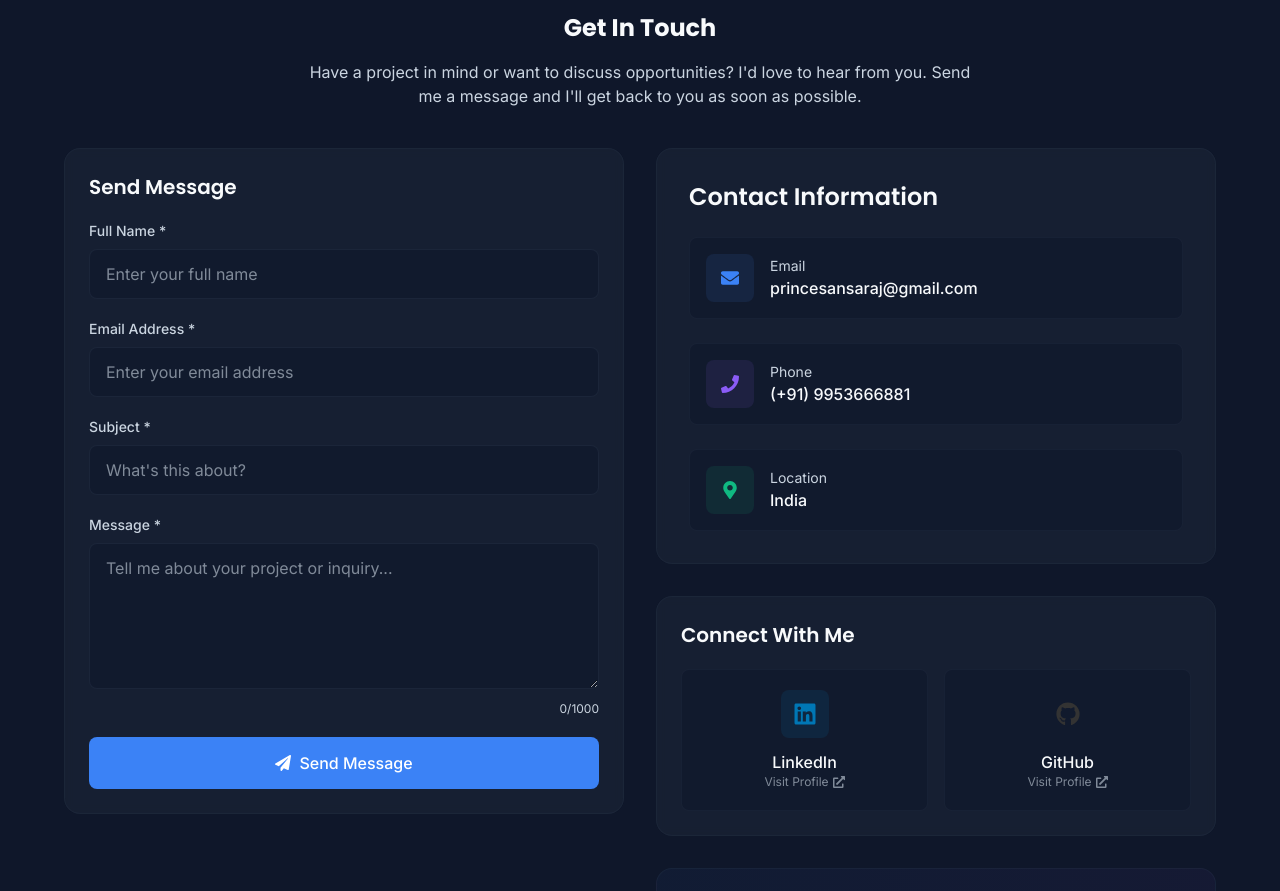
Test: Contact Component › submits form successfully
// Fill out the form
Type "John Doe" into the field labelled "Full Name *" at (344, 274), box x1=89 y1=249 x2=599 y2=299
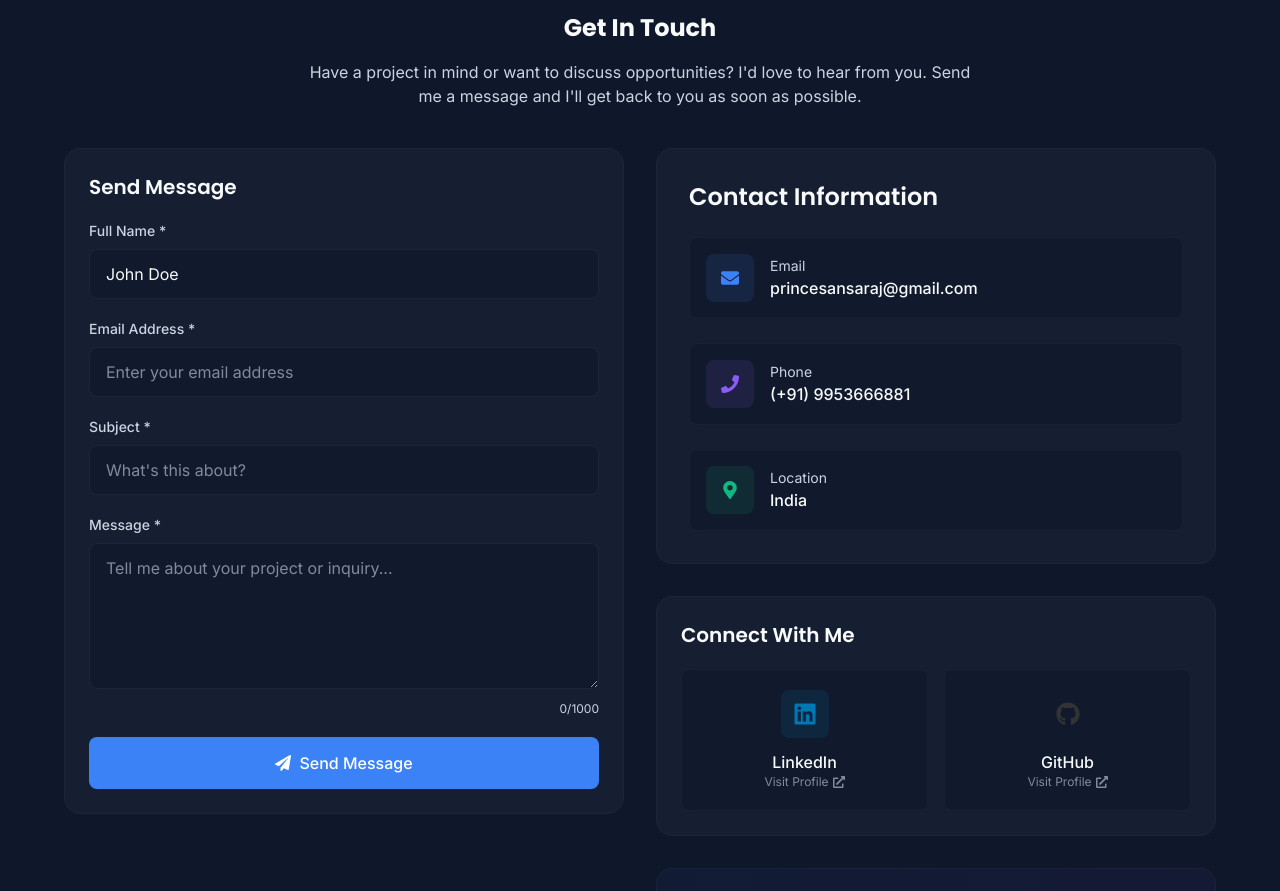
Type "john@example.com" into the field labelled "Email Address *" at (344, 372), box x1=89 y1=347 x2=599 y2=397
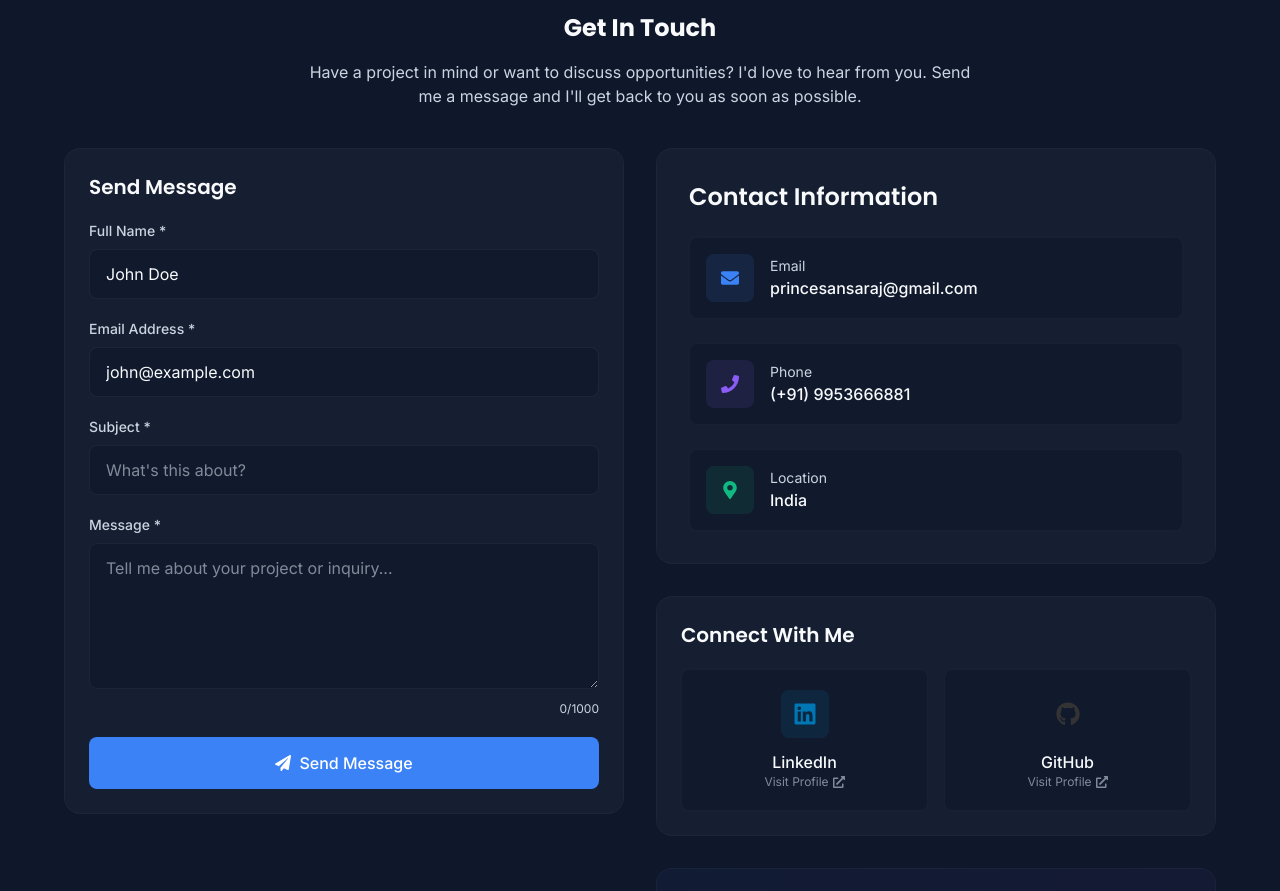
Type "Test Subject" into the field labelled "Subject *" at (344, 470), box x1=89 y1=445 x2=599 y2=495
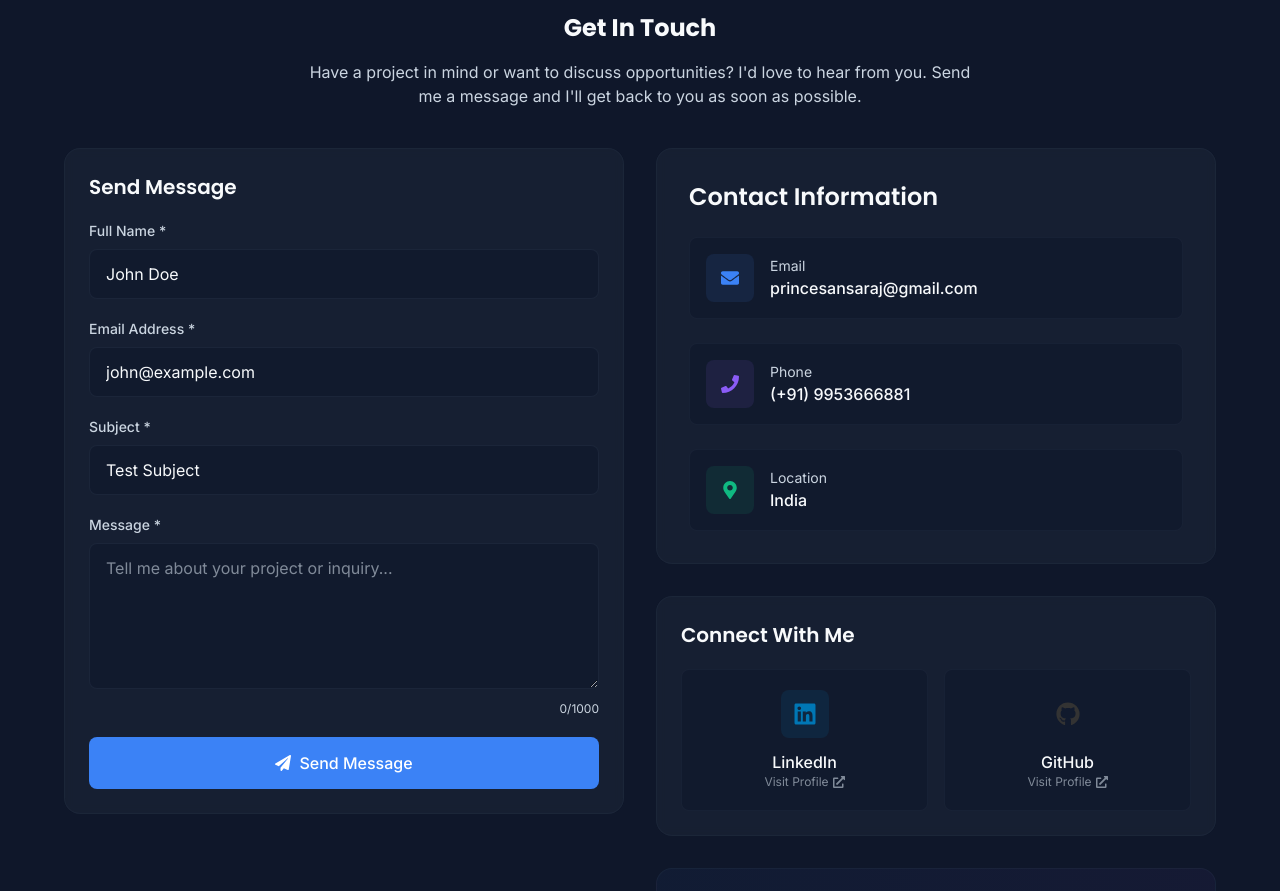
Type "This is a test message." into the text box labelled "Message *" at (344, 616), box x1=89 y1=543 x2=599 y2=689
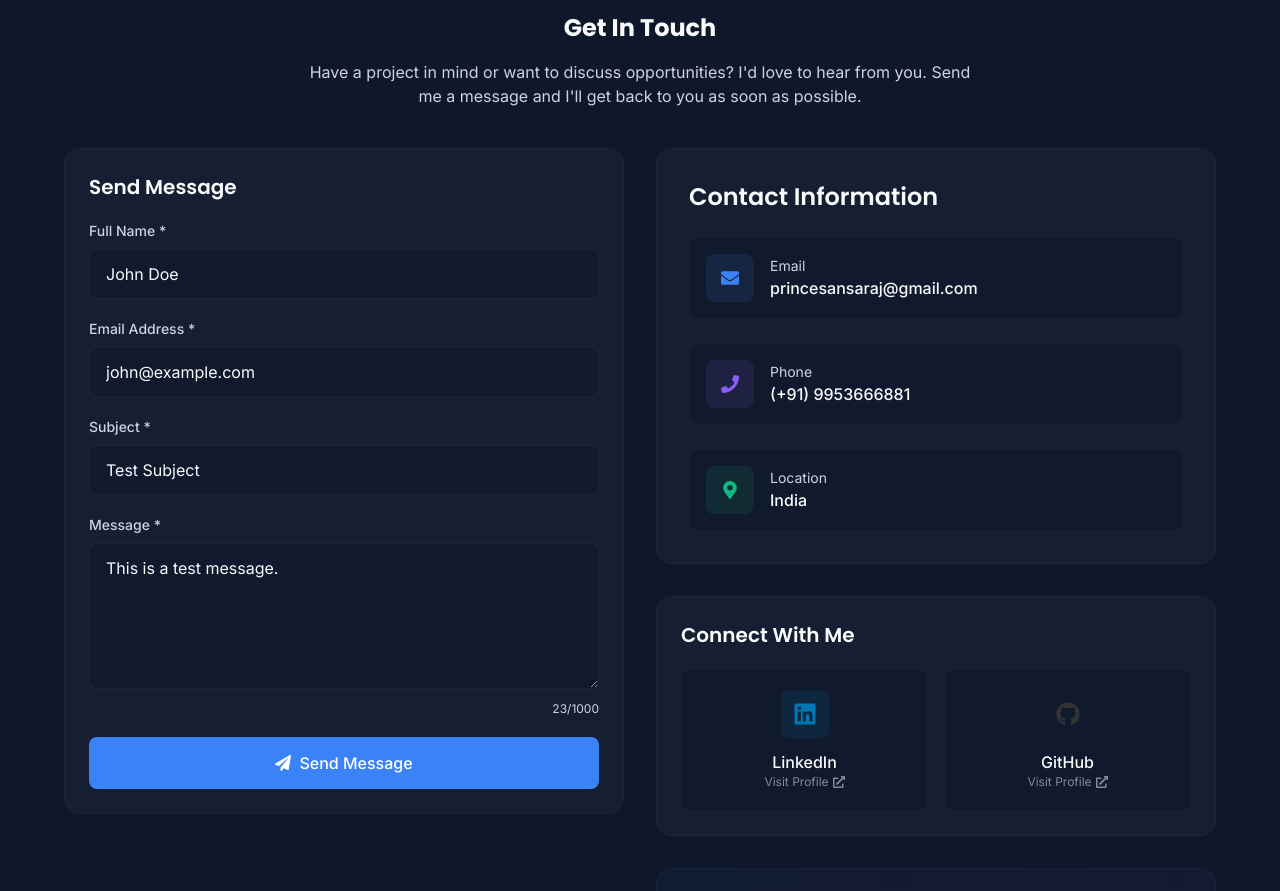
// Submit the form
Click the button "Send Message" at (344, 763), box x1=89 y1=737 x2=599 y2=789
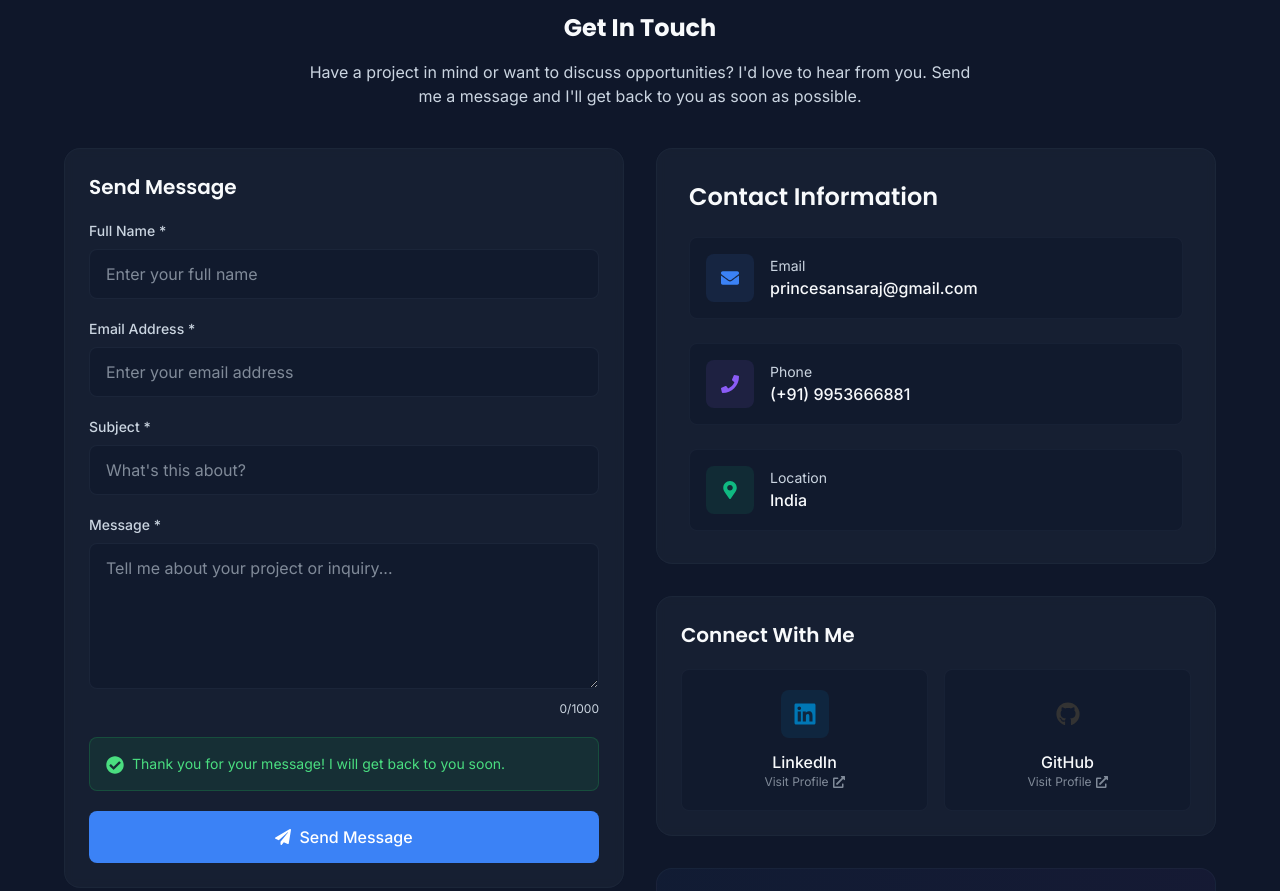
Expected: the text "Thank you for your message! I will get back to you soon." is shown, x1=132 y1=754 x2=505 y2=774
